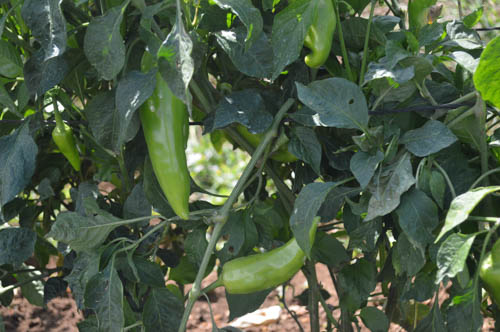ChiliPepper: (133, 57, 207, 226), (216, 213, 329, 297), (290, 1, 341, 64), (50, 123, 90, 174), (481, 252, 500, 307)
